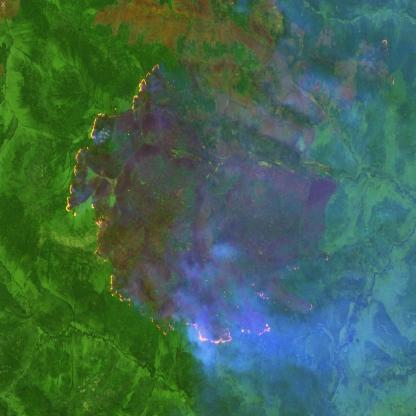fire: (60, 53, 274, 349)
